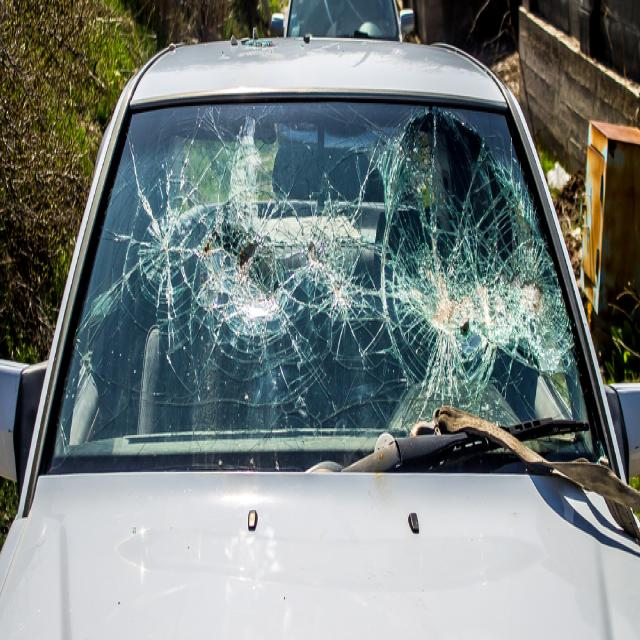Windshield: (119, 119, 577, 434)
